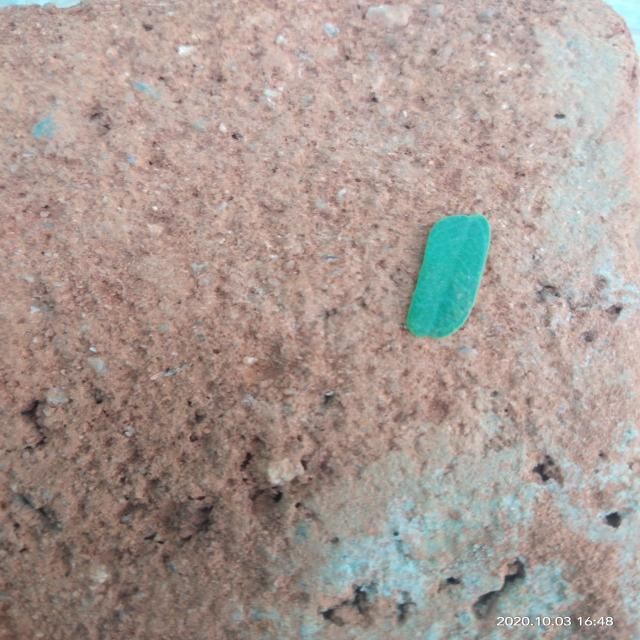tamarind: (407, 212, 490, 338)
